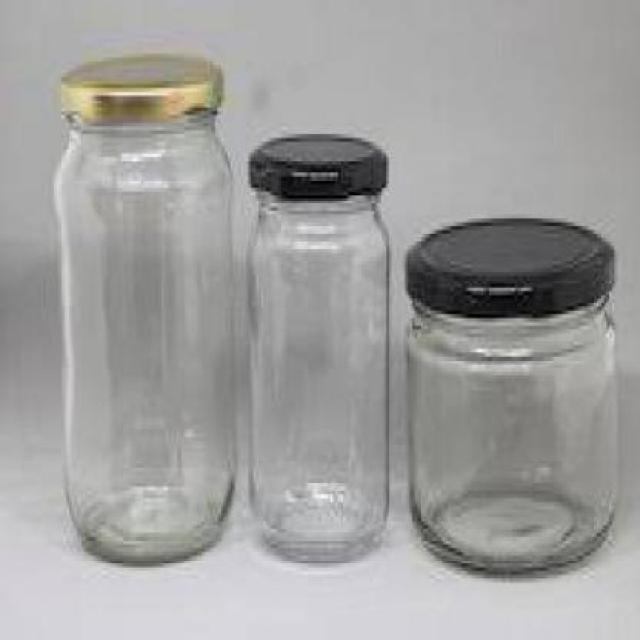GLASS: (54, 111, 235, 567), (402, 294, 615, 574), (243, 188, 389, 563)
METAL: (402, 215, 612, 310), (57, 50, 220, 112), (245, 131, 384, 195)
